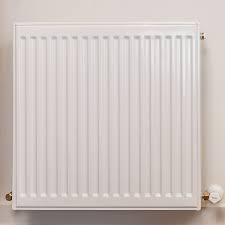Radiator: (6, 21, 220, 212)
